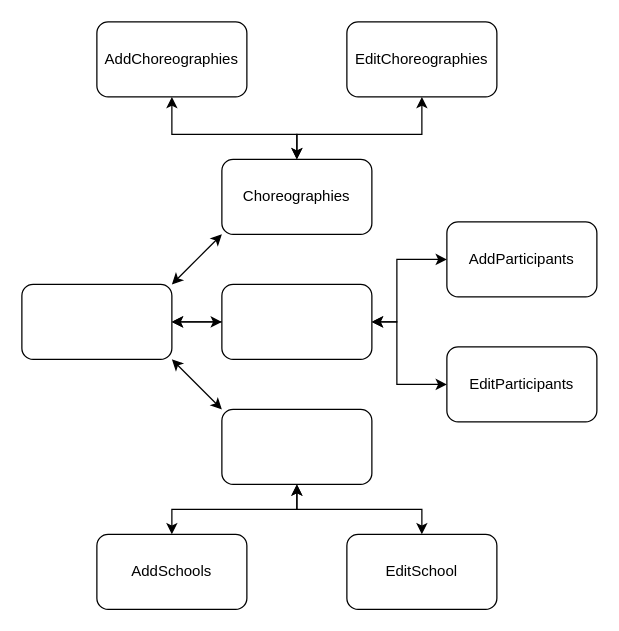
Image size: 619x631. Some labels were removed from this diagram. Here are the shapes that lost their labels. From the top down, the centre of each, then its label:
At (96,321): "Home".
At (296,321): "Participants".
At (296,446): "Schools".
